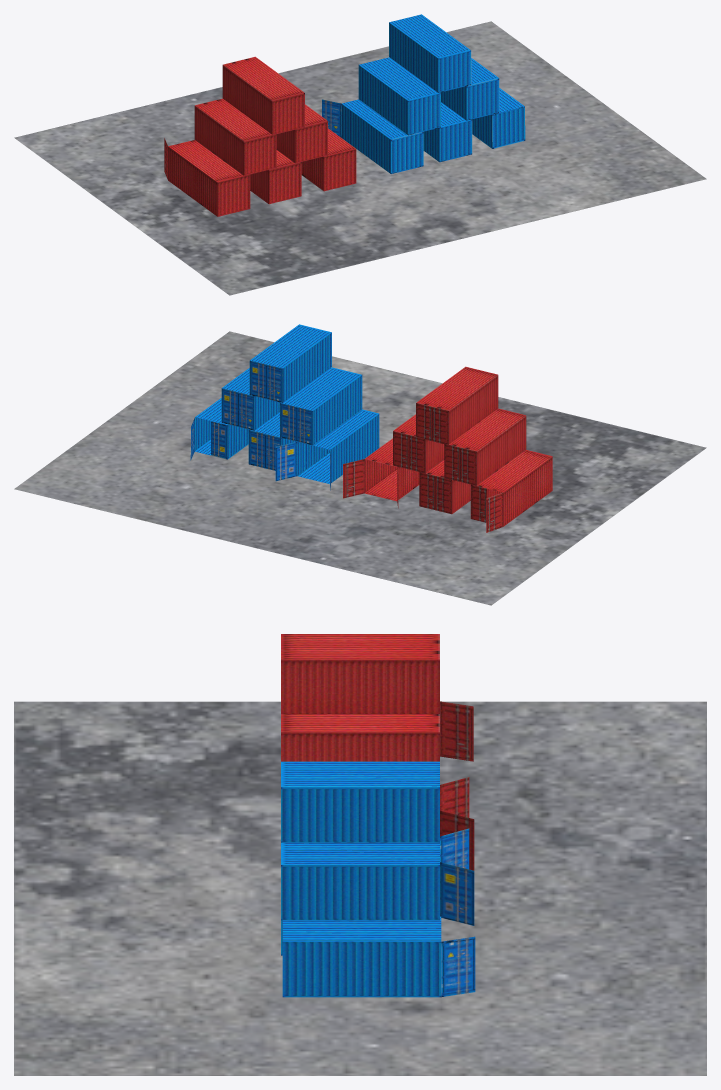
Rendered from container.fbx_Collection.fbx.
The picture shows the model from 3 angles, top to bottom: view 1: azimuth 30°, elevation 25°; view 2: azimuth 150°, elevation 25°; view 3: azimuth 270°, elevation 25°; orthographic projection. The views are drawn at different scales.
Parts seen in each view (by area): view 1: Suelo, container_cerrada_azul_4, container_cerrada_roja_4, container_cerrada_azul_2, container_abierta_puerta1_roja, container_abierta_azul, container_cerrada_roja_3, container_cerrada_azul_3, Container_abierta_azul, Container_abierta_puerta1_azul, Container_cerrada_azul, container_cerrada_roja_2 (+1 smaller); view 2: Suelo, container_cerrada_azul_4, container_cerrada_roja_4, container_abierta_azul, container_cerrada_azul_2, container_abierta_puerta1_roja, container_cerrada_roja_3, Container_abierta_azul, Container_abierta_puerta1_azul, container_cerrada_azul_3, container_cerrada_roja_2, container_abierta_roja (+1 smaller); view 3: Suelo, Container_abierta_puerta1_azul, container_cerrada_azul_4, container_cerrada_roja_4, container_cerrada_azul_3, container_cerrada_roja_2, container_abierta_azul, container_abierta_puerta1_roja, Container_abierta_azul.
Boxes of the visible parts, x1,y1,x2,y2 form: Suelo: (14, 21, 706, 295); container_cerrada_azul_4: (389, 14, 471, 92); container_cerrada_roja_4: (222, 56, 304, 135); container_cerrada_azul_2: (358, 57, 440, 135); container_abierta_puerta1_roja: (164, 138, 250, 216); container_abierta_azul: (322, 99, 423, 173); container_cerrada_roja_3: (194, 98, 276, 175); container_cerrada_azul_3: (440, 58, 499, 120); Container_abierta_azul: (301, 128, 356, 191); Container_abierta_puerta1_azul: (472, 88, 525, 148); Container_cerrada_azul: (423, 102, 472, 162); container_cerrada_roja_2: (276, 104, 327, 163); Suelo: (14, 331, 706, 605); container_cerrada_azul_4: (249, 324, 331, 402); container_cerrada_roja_4: (416, 366, 498, 444); container_abierta_azul: (275, 409, 379, 490); container_cerrada_azul_2: (280, 367, 362, 445); container_abierta_puerta1_roja: (470, 450, 552, 532); container_cerrada_roja_3: (444, 408, 526, 485); Container_abierta_azul: (343, 438, 419, 508); Container_abierta_puerta1_azul: (190, 398, 248, 460); container_cerrada_azul_3: (221, 368, 280, 430); container_cerrada_roja_2: (393, 414, 444, 473); container_abierta_roja: (419, 460, 470, 514); Suelo: (14, 701, 706, 1075); Container_abierta_puerta1_azul: (282, 916, 475, 997); container_cerrada_azul_4: (281, 761, 439, 842); container_cerrada_roja_4: (281, 634, 439, 713); container_cerrada_azul_3: (281, 842, 439, 920); container_cerrada_roja_2: (281, 714, 439, 761); container_abierta_azul: (440, 828, 474, 925); container_abierta_puerta1_roja: (440, 701, 473, 761); Container_abierta_azul: (440, 777, 474, 870).
Bounding box in the file's own units: 5150 × 1083 × 4030.
13 materials, 13 textured.
